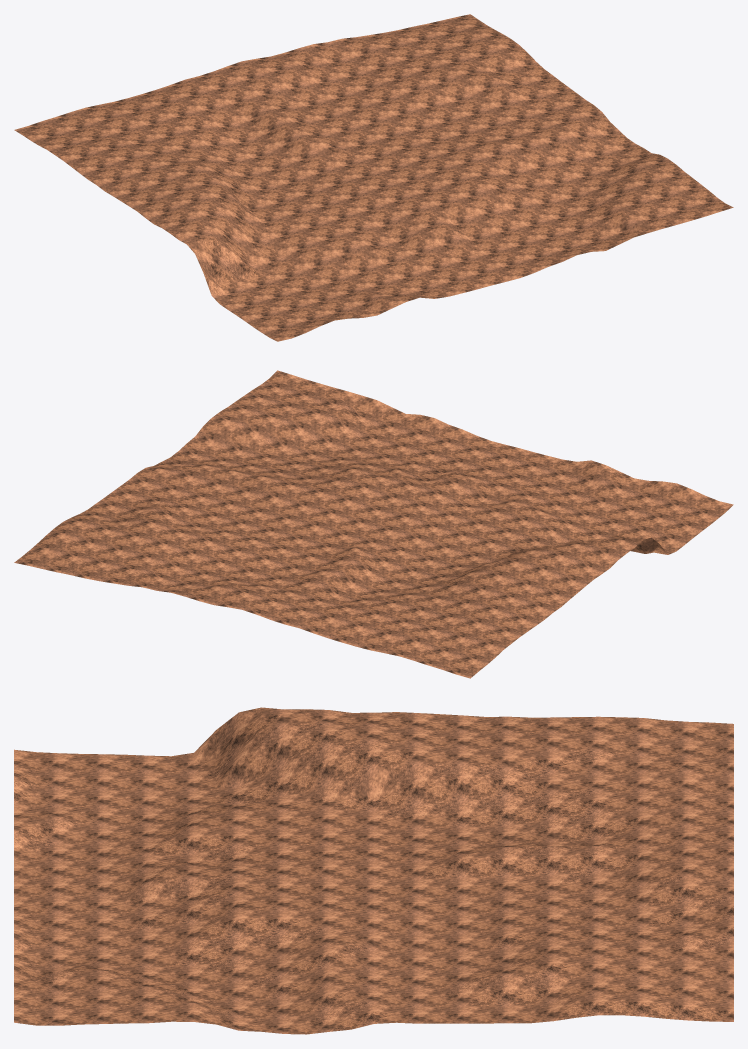
File: terrain_05_18.dae
3 views of the same model, one above another, from view 1: azimuth 30°, elevation 25°; view 2: azimuth 150°, elevation 25°; view 3: azimuth 270°, elevation 25° (orthographic). The views are drawn at different scales.
Parts seen in each view (by area): view 1: terrain_05_18-node; view 2: terrain_05_18-node; view 3: terrain_05_18-node.
Boxes of the visible parts, x1,y1,x2,y2 form: terrain_05_18-node: (14, 14, 733, 341); terrain_05_18-node: (14, 370, 733, 678); terrain_05_18-node: (14, 707, 733, 1034).
Bounding box in the file's own units: 128 × 128 × 10.58.
1 material, 1 textured.
